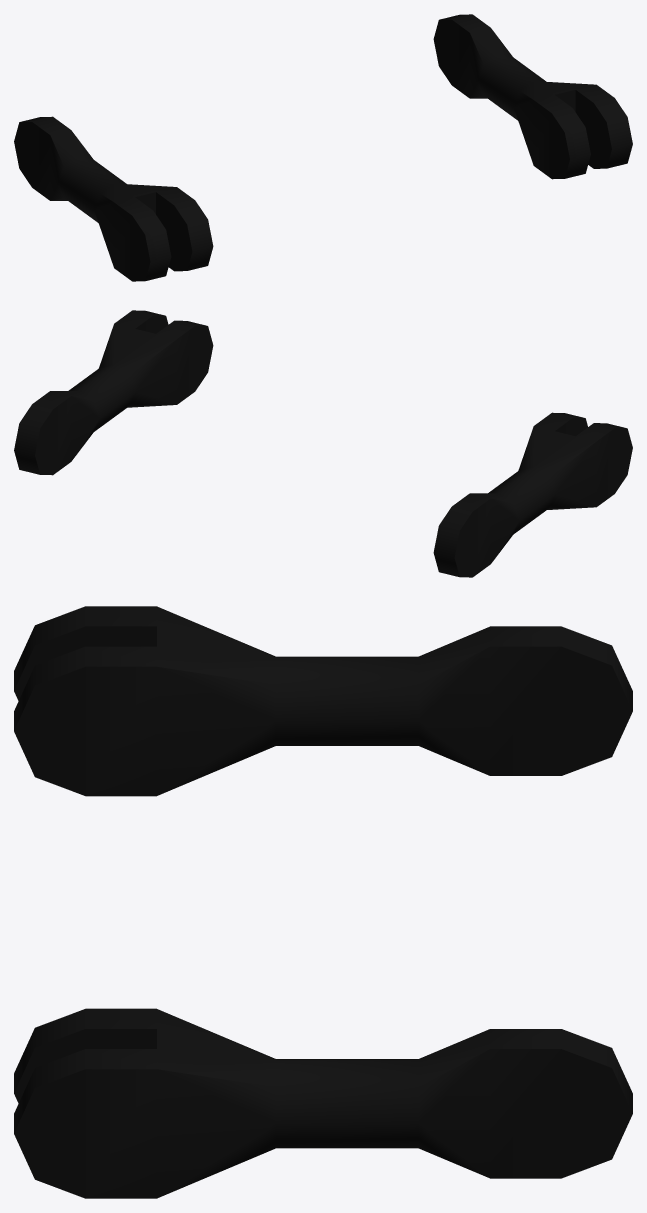
The model's file is carhook.obj.
3 renders of one model, top to bottom at view 1: azimuth 30°, elevation 25°; view 2: azimuth 150°, elevation 25°; view 3: azimuth 270°, elevation 25°, orthographic. The views are drawn at different scales.
Visible parts, largest first — view 1: 1; view 2: 1; view 3: 1.
Part boxes in pixels (x1=…): 1: x1=14, y1=14, x2=632, y2=281; 1: x1=14, y1=310, x2=632, y2=577; 1: x1=14, y1=606, x2=632, y2=1198.
Bounding box in the file's own units: 0.575 × 0.075 × 0.325.
